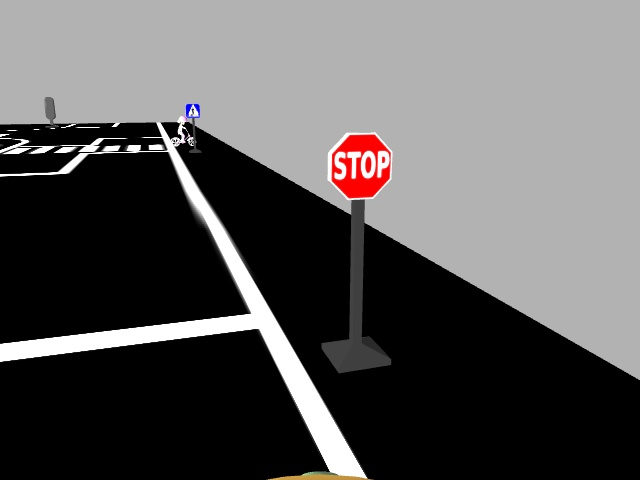Stop: (324, 130, 395, 199)
